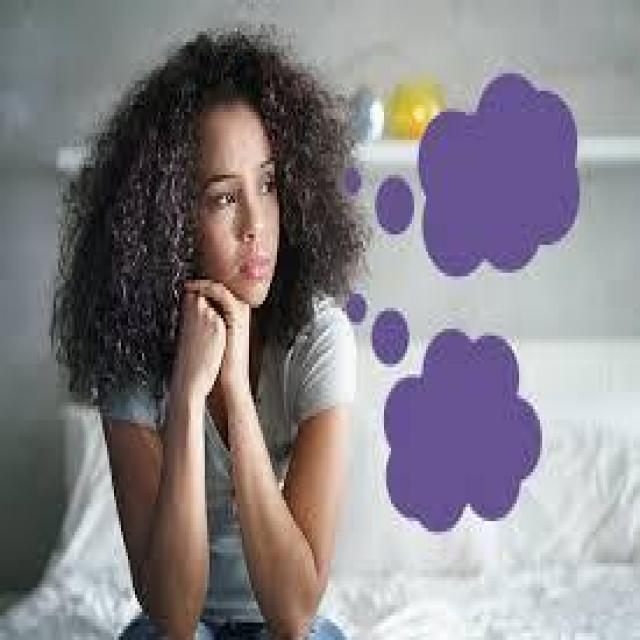person: (32, 18, 368, 636)
